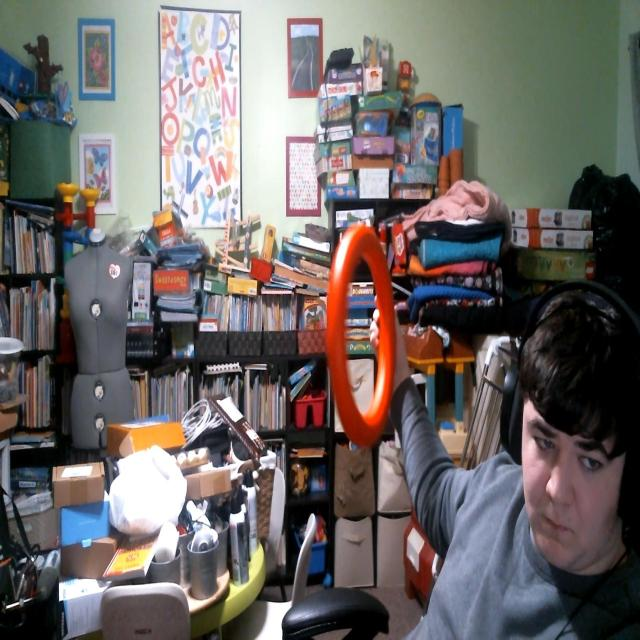note: (326, 216, 396, 450)
